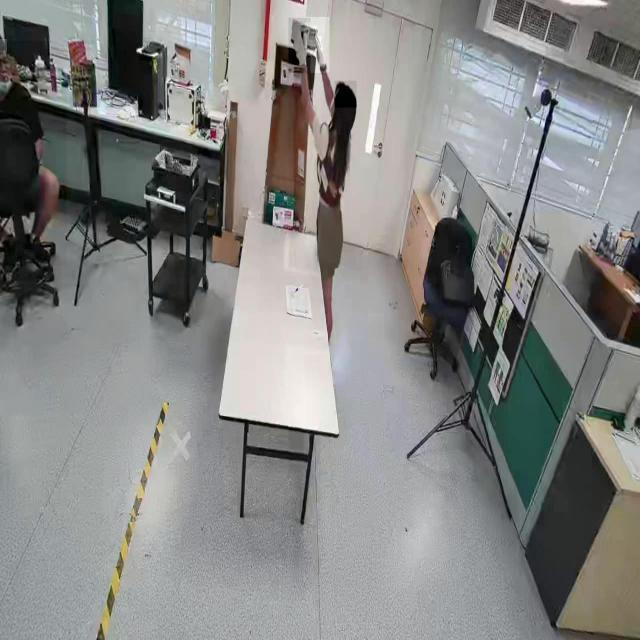gloves: (306, 17, 330, 74), (288, 18, 312, 74)
